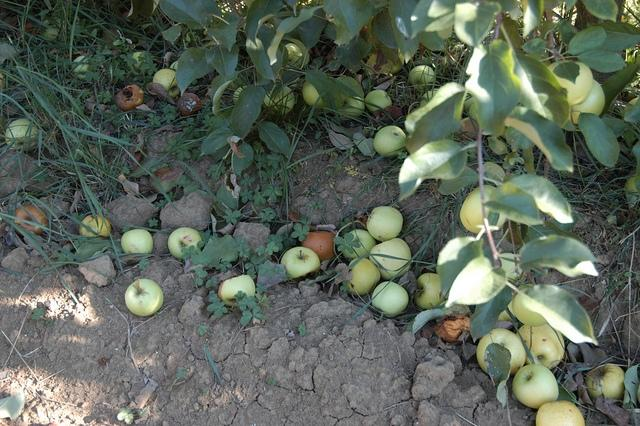apple: (476, 328, 526, 376), (516, 323, 565, 370), (460, 185, 506, 234), (512, 364, 558, 410), (547, 60, 593, 106), (369, 236, 412, 282), (584, 362, 626, 400), (218, 273, 255, 314), (125, 278, 164, 316), (573, 79, 605, 124), (512, 287, 548, 327), (366, 206, 404, 242), (413, 273, 449, 310), (346, 258, 381, 296), (280, 247, 320, 280), (536, 400, 586, 426), (372, 282, 408, 317), (168, 227, 203, 260), (302, 232, 336, 264), (434, 314, 471, 343), (15, 205, 48, 237), (5, 119, 39, 149), (374, 125, 406, 156), (344, 229, 376, 259), (264, 85, 294, 115), (78, 214, 112, 240), (120, 229, 154, 254), (153, 68, 180, 98), (116, 85, 144, 111), (365, 90, 392, 114), (177, 92, 203, 116), (338, 94, 365, 116), (302, 80, 324, 106), (408, 65, 434, 86), (127, 52, 148, 76), (72, 56, 91, 80), (285, 43, 303, 68), (390, 48, 404, 74), (44, 28, 58, 40), (625, 177, 636, 191), (169, 60, 178, 71)
